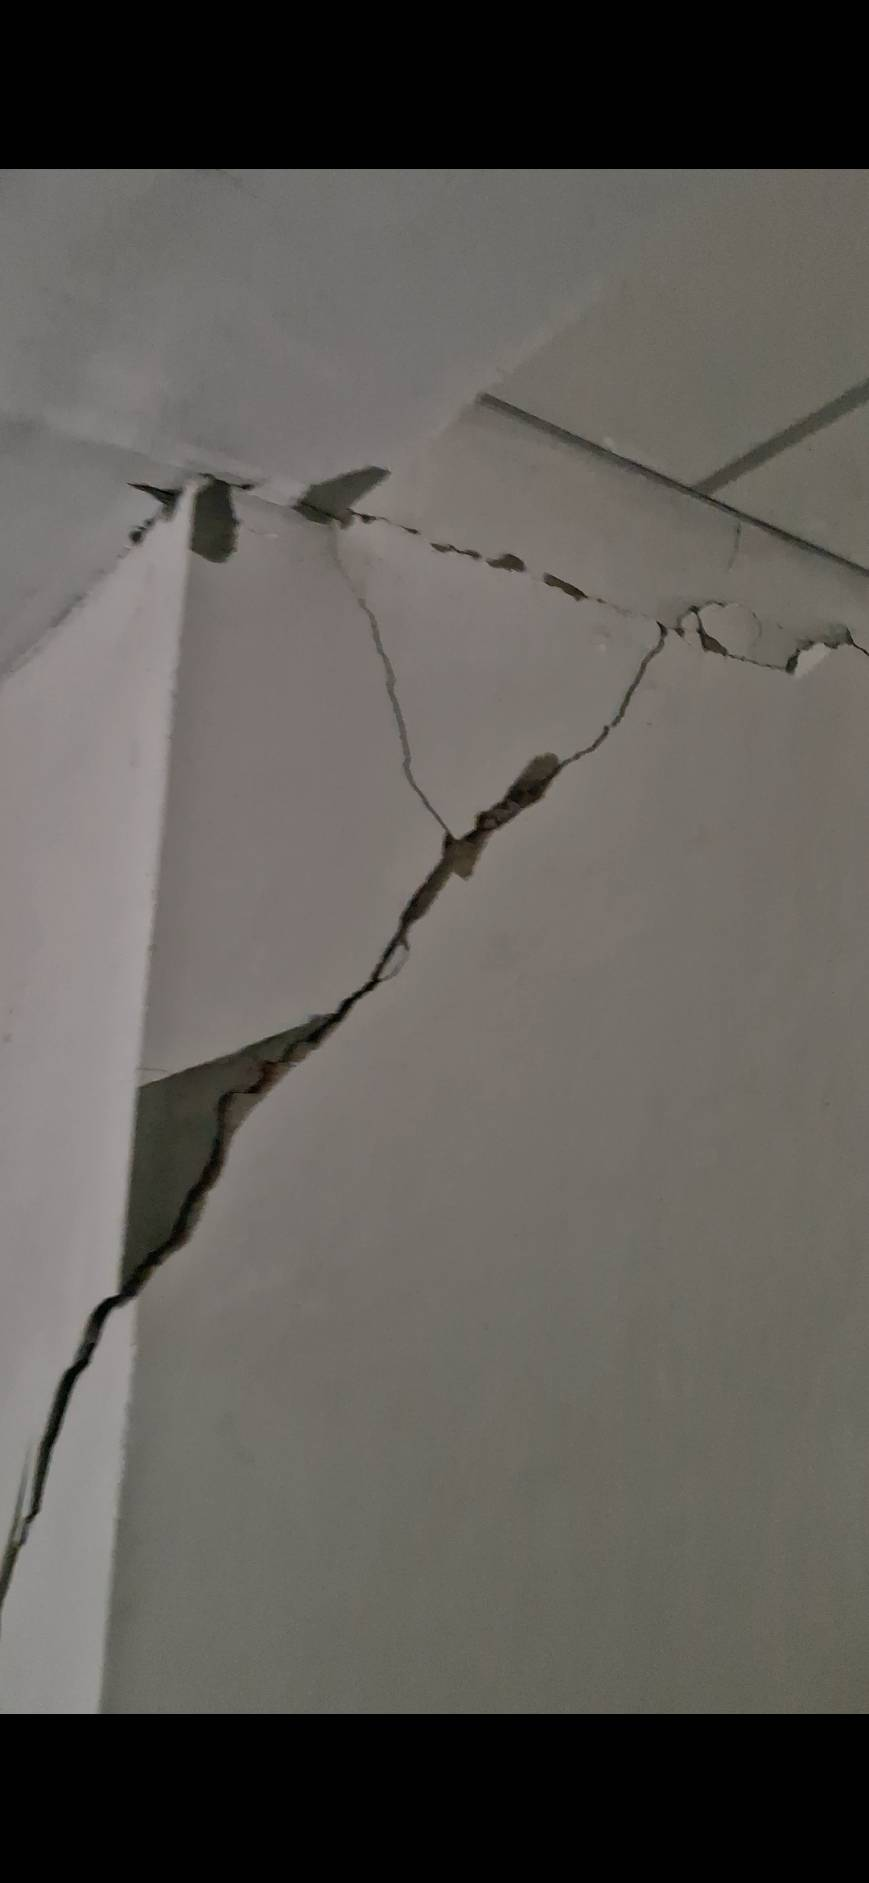High: (1, 441, 869, 1646)
